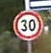limite 30: (11, 9, 43, 40)
